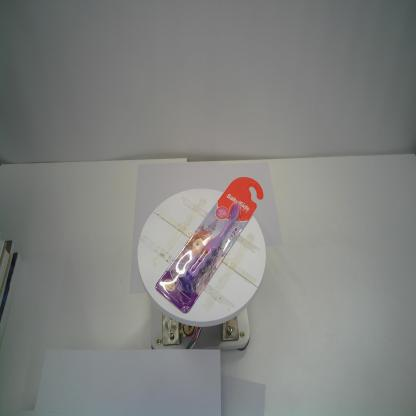Personal Hygiene: (154, 174, 264, 314)
